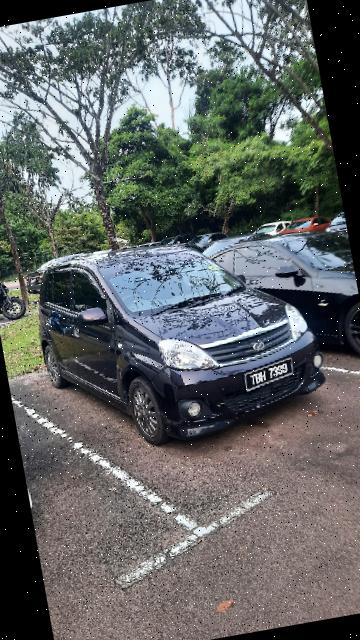License_Plate: (242, 356, 300, 394)
car: (26, 219, 336, 465), (196, 221, 360, 373)
